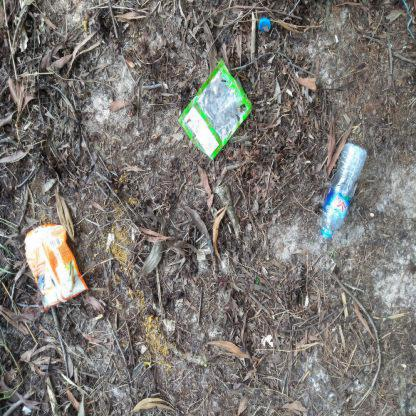Bottle: (259, 18, 271, 31), (22, 406, 32, 415)
Bottle cap: (322, 142, 368, 240)
Plastic bag - wrapper: (178, 59, 253, 161), (24, 224, 88, 310)
Unlabeled litter: (403, 1, 414, 40)
